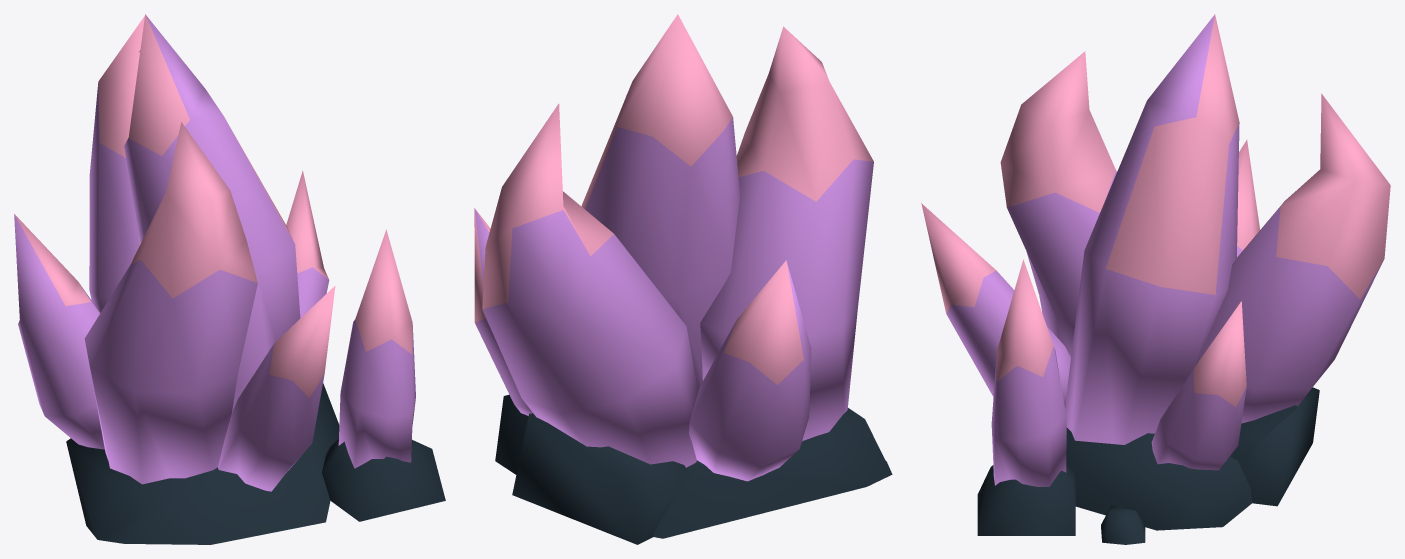
File: AmethistTier2.glb
3 renders of one model, left to right at view 1: azimuth 30°, elevation 25°; view 2: azimuth 150°, elevation 25°; view 3: azimuth 270°, elevation 25°, orthographic. The views are drawn at different scales.
Parts seen in each view (by area): view 1: AmethistTier2; view 2: AmethistTier2; view 3: AmethistTier2.
Part boxes in pixels (left/top/right/bottom): AmethistTier2: left=14, top=14, right=445, bottom=544; AmethistTier2: left=474, top=14, right=892, bottom=544; AmethistTier2: left=921, top=14, right=1390, bottom=544.
Bounding box in the file's own units: 1.97 × 2.6 × 2.54.
Materials: 1 (1 with a texture image).
